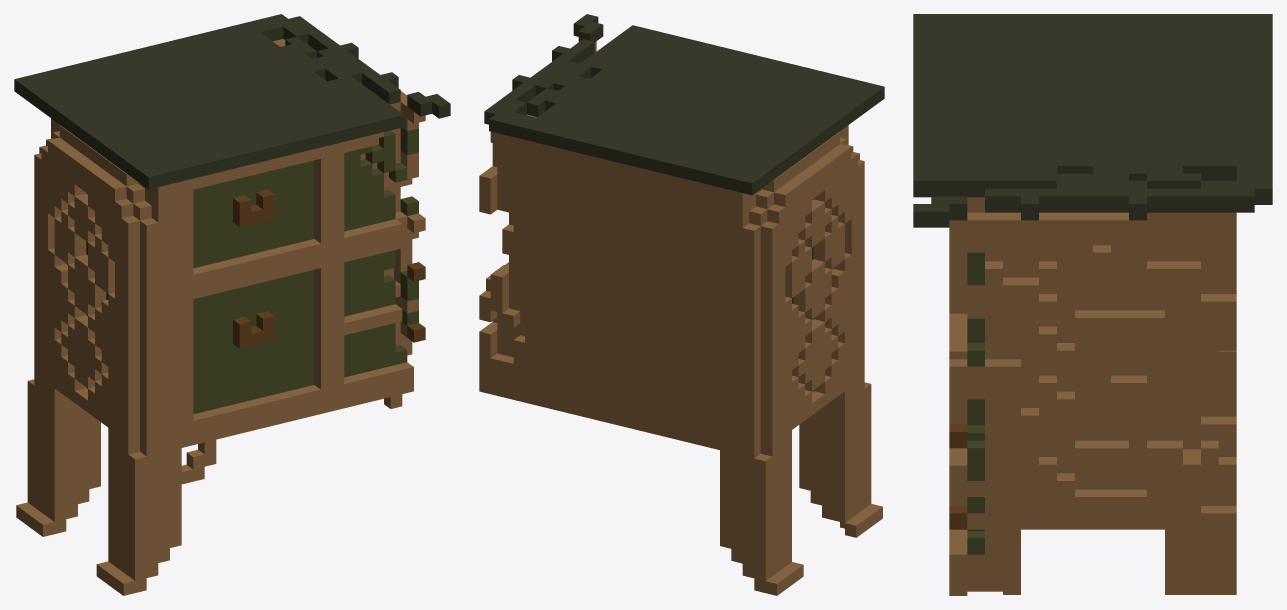
Rendered from Commode 1 brise gauche.obj.
3 renders of one model, left to right at view 1: azimuth 30°, elevation 25°; view 2: azimuth 150°, elevation 25°; view 3: azimuth 270°, elevation 25°, orthographic. The views are drawn at different scales.
Visible parts, largest first — view 1: Commode 1 brise gauche; view 2: Commode 1 brise gauche; view 3: Commode 1 brise gauche.
Boxes of the visible parts, x1=… form: Commode 1 brise gauche: x1=14, y1=14, x2=450, y2=595; Commode 1 brise gauche: x1=479, y1=14, x2=884, y2=595; Commode 1 brise gauche: x1=913, y1=14, x2=1272, y2=595.
Bounding box in the file's own units: 27 × 35 × 20.
1 material, 1 textured.
